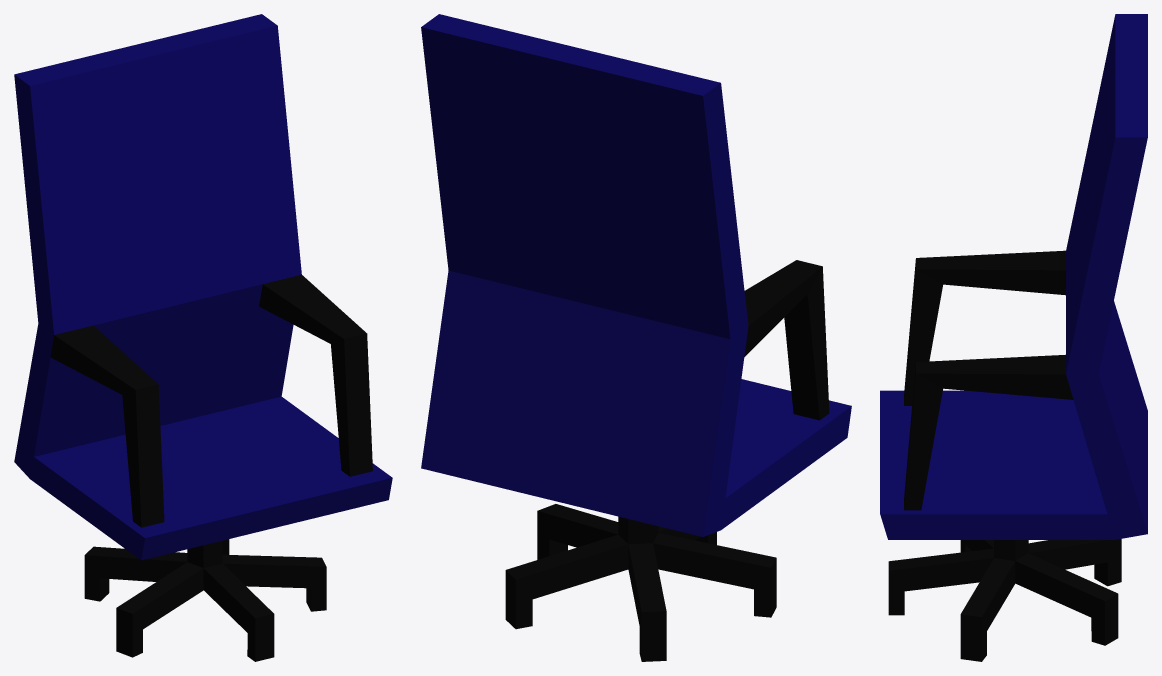
Rendered from chair.fbx.
The picture shows the model from 3 angles, left to right: view 1: azimuth 30°, elevation 25°; view 2: azimuth 150°, elevation 25°; view 3: azimuth 270°, elevation 25°; orthographic projection. The views are drawn at different scales.
Visible parts, largest first — view 1: Cylinder; view 2: Cylinder; view 3: Cylinder.
Boxes of the visible parts, x1,y1,x2,y2 form: Cylinder: (14,14,392,661); Cylinder: (421,14,851,661); Cylinder: (880,14,1147,661).
Size of the model in its own units: 134 by 270 by 122.
